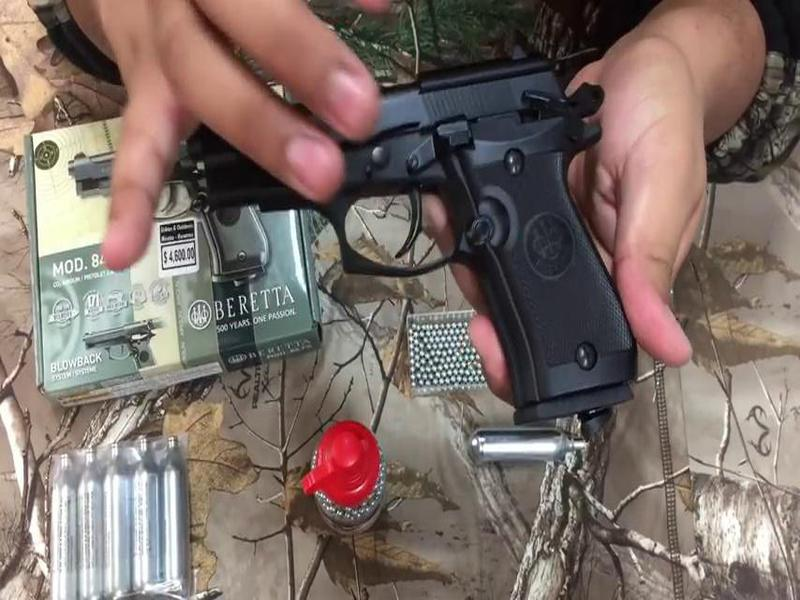Pistola: (176, 61, 666, 423)
